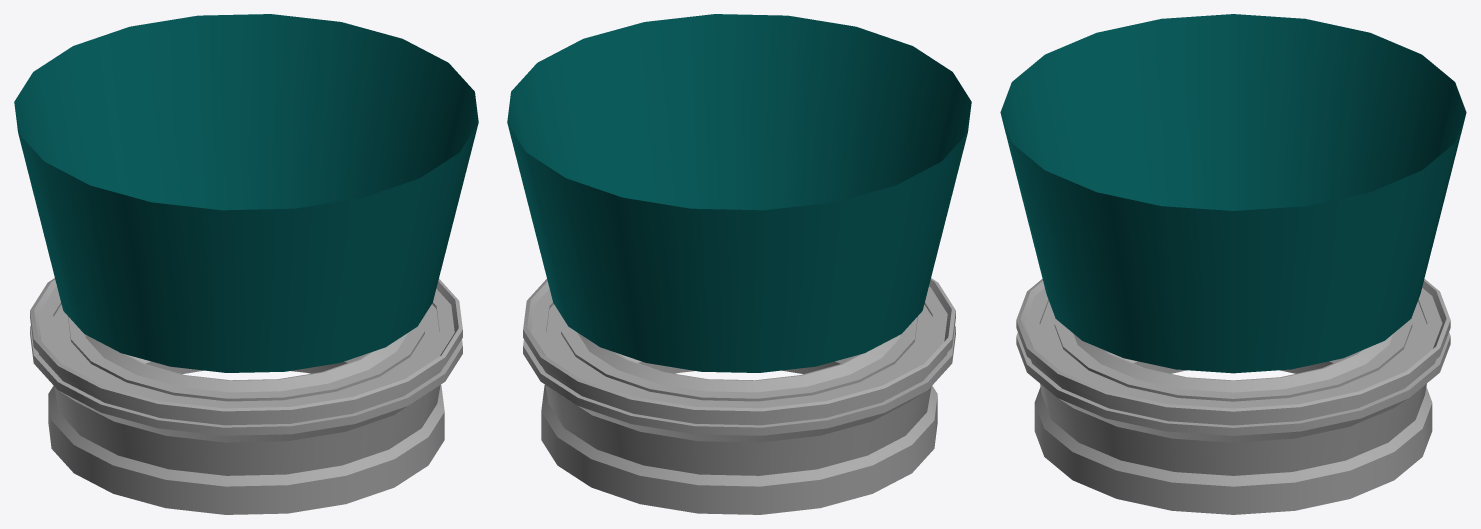
The model's file is Twinstick_Billboard_UV_fix.fbx.
3 views of the same model, side by side, from view 1: azimuth 30°, elevation 25°; view 2: azimuth 150°, elevation 25°; view 3: azimuth 270°, elevation 25° (orthographic).
Visible parts, largest first — view 1: polySurface34; view 2: polySurface34; view 3: polySurface34.
Boxes of the visible parts, box(x1,y1,x2,y2) form: polySurface34: box(14, 14, 478, 514); polySurface34: box(507, 14, 971, 514); polySurface34: box(1000, 14, 1466, 514).
Size of the model in its own units: 3.75 by 2.82 by 3.75.
